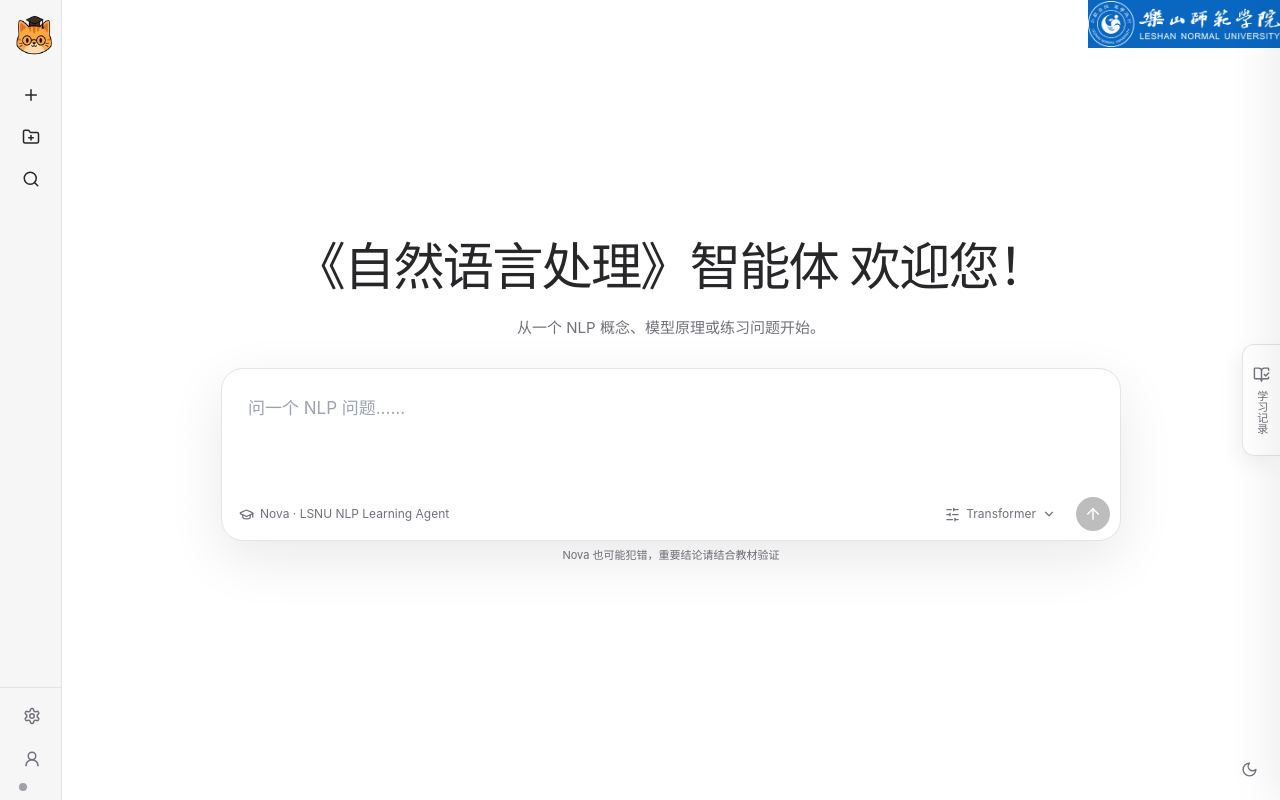
Scenario: student learning catalogue refresh › shows a dismissible in-page configuration notice instead of a sidebar error
The image size is (1280, 800).
Click the button named "学习设置" at (1001, 514), box [937,499,1064,529]
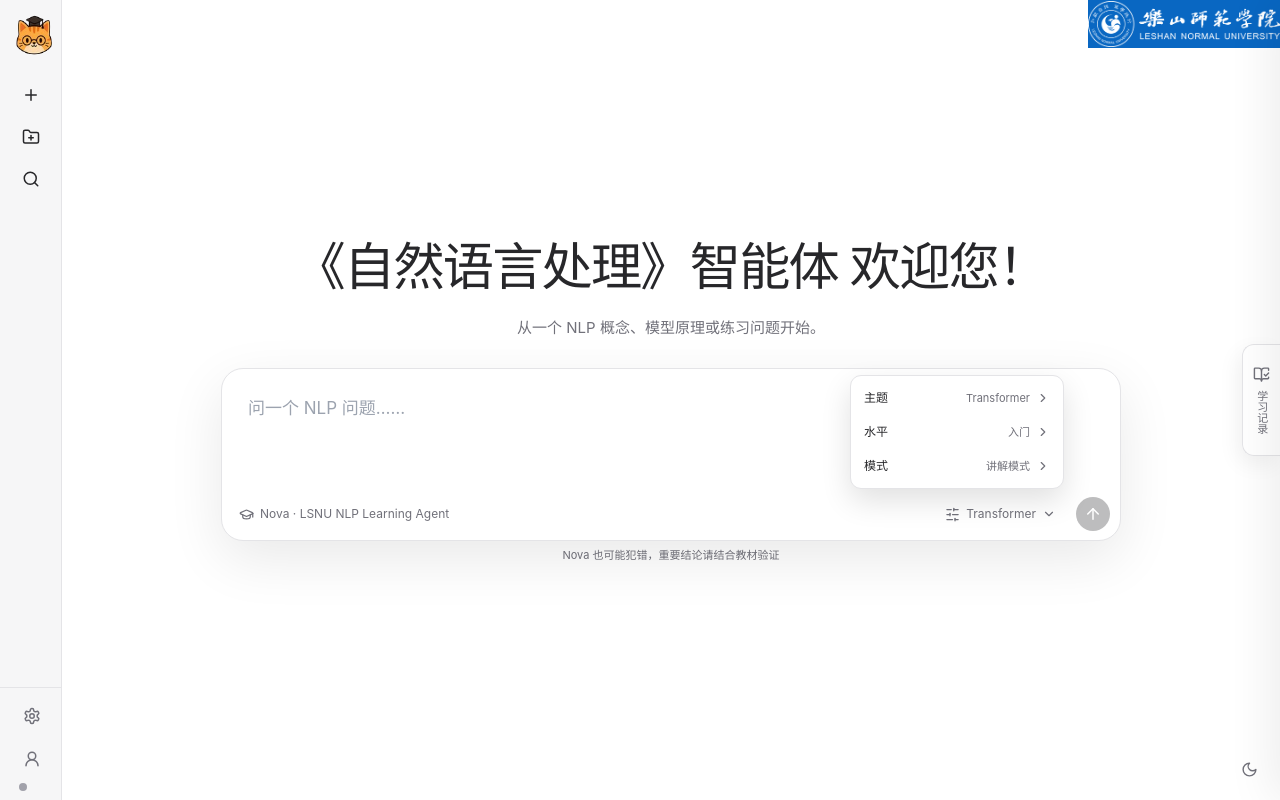
Click the button named "教学模式" at (957, 466), box [857,450,1057,482]
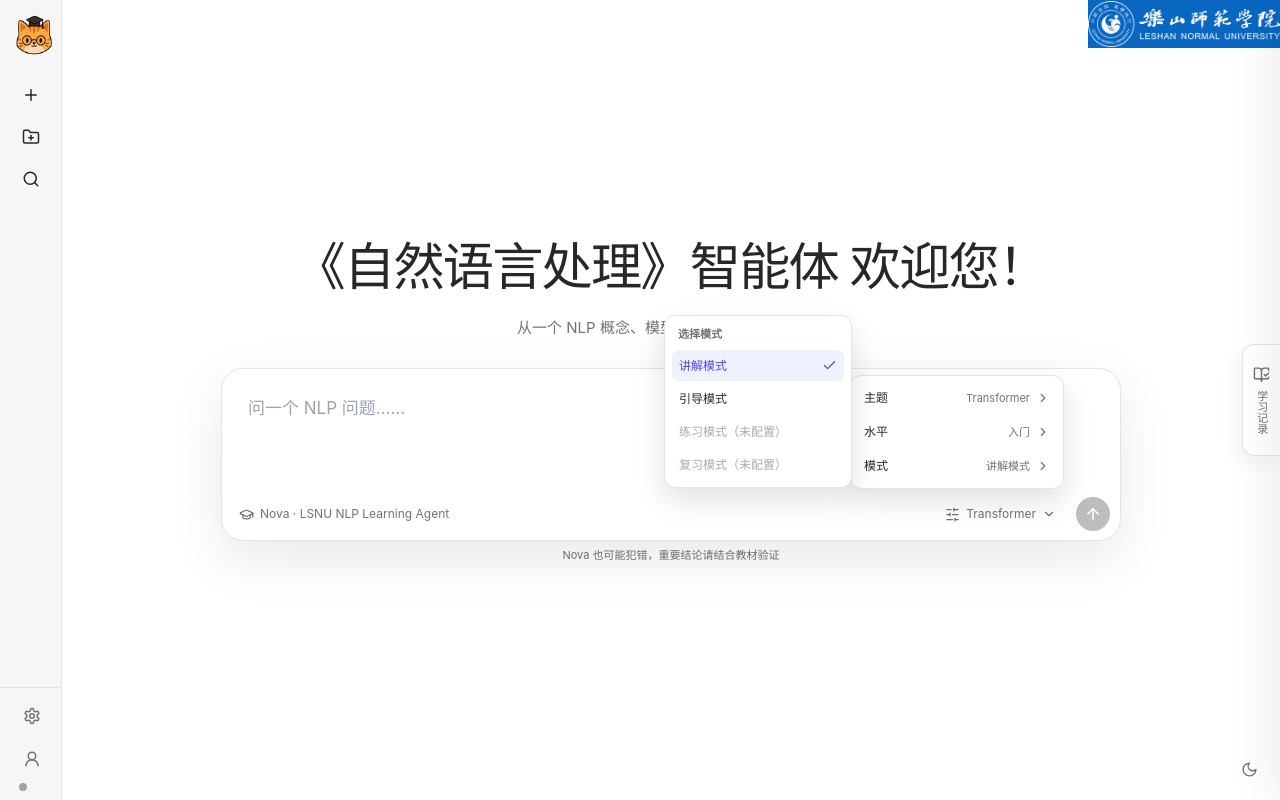
Click the option "练习模式（未配置）" at (758, 432), box [672,416,844,447]
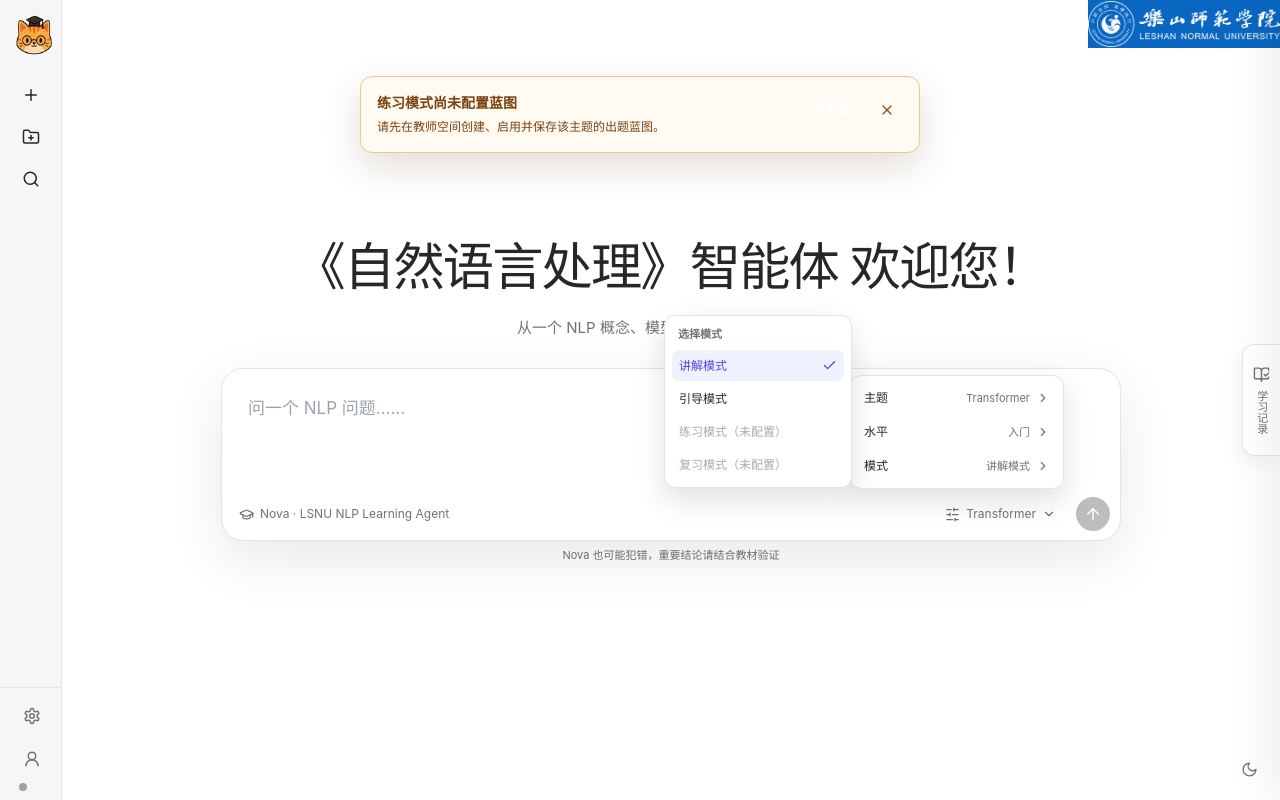
Result: the message shows "练习模式尚未配置蓝图" at [377,94,517,111]
Click the button named "关闭提示" at (887, 110), box [871,94,903,126]
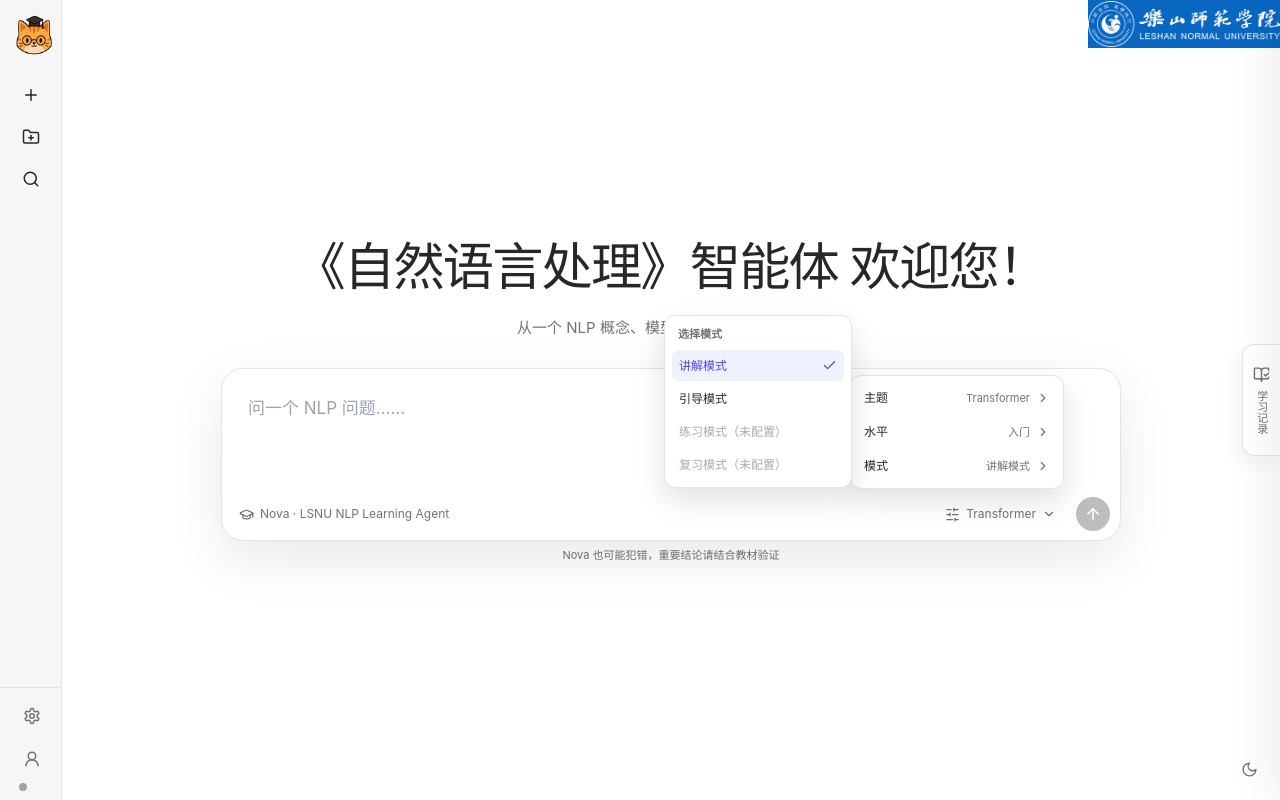
Result: the message is gone
